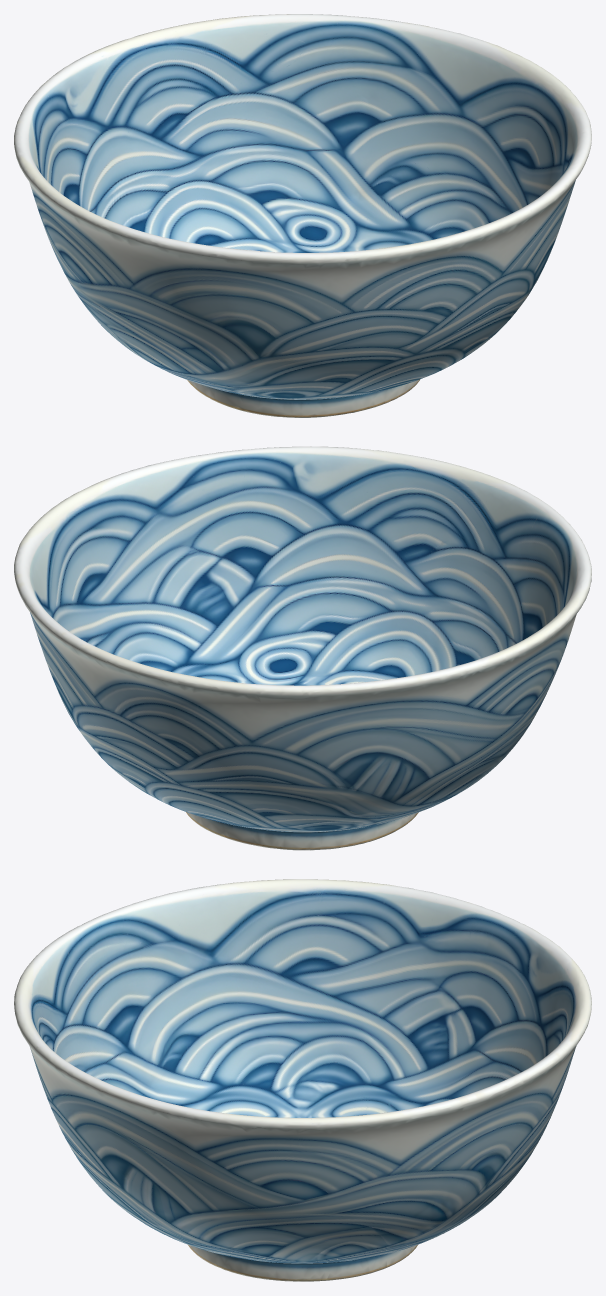
Rendered from cousin_0.glb.
3 renders of one model, top to bottom at view 1: azimuth 30°, elevation 25°; view 2: azimuth 150°, elevation 25°; view 3: azimuth 270°, elevation 25°, orthographic.
Bounding box in the file's own units: 1.91 × 0.8498 × 1.91.
1 material, 1 textured.
